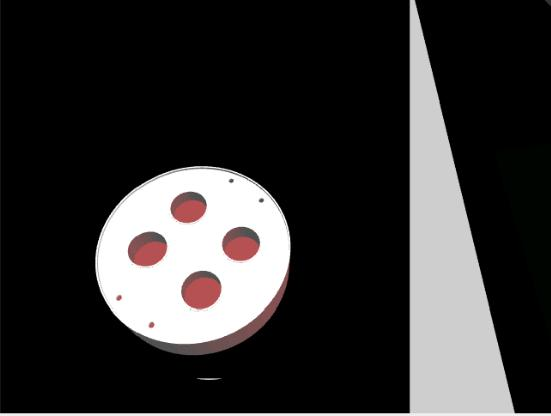hole: (177, 262, 225, 312), (126, 225, 169, 271), (167, 186, 212, 229), (219, 222, 264, 265)
